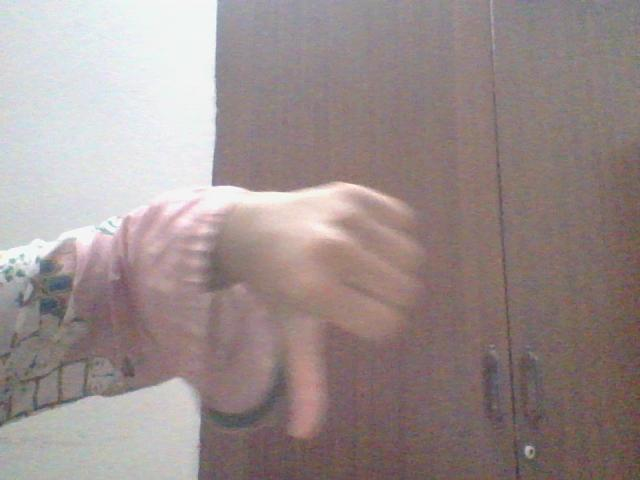thumbs-down: (273, 179, 427, 451)
